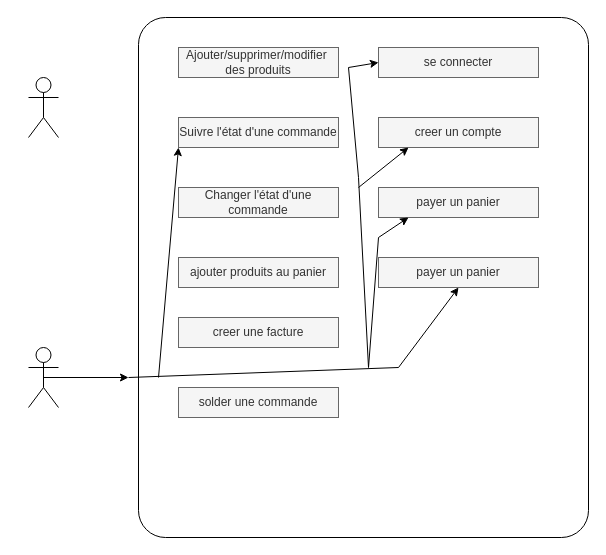
This 606x555 diagram has some shape labels left out. Here are the shapes that lost their labels. From the top down, the box of each, then its label:
(28, 76, 58, 138): Employés
(28, 346, 58, 408): Clients
